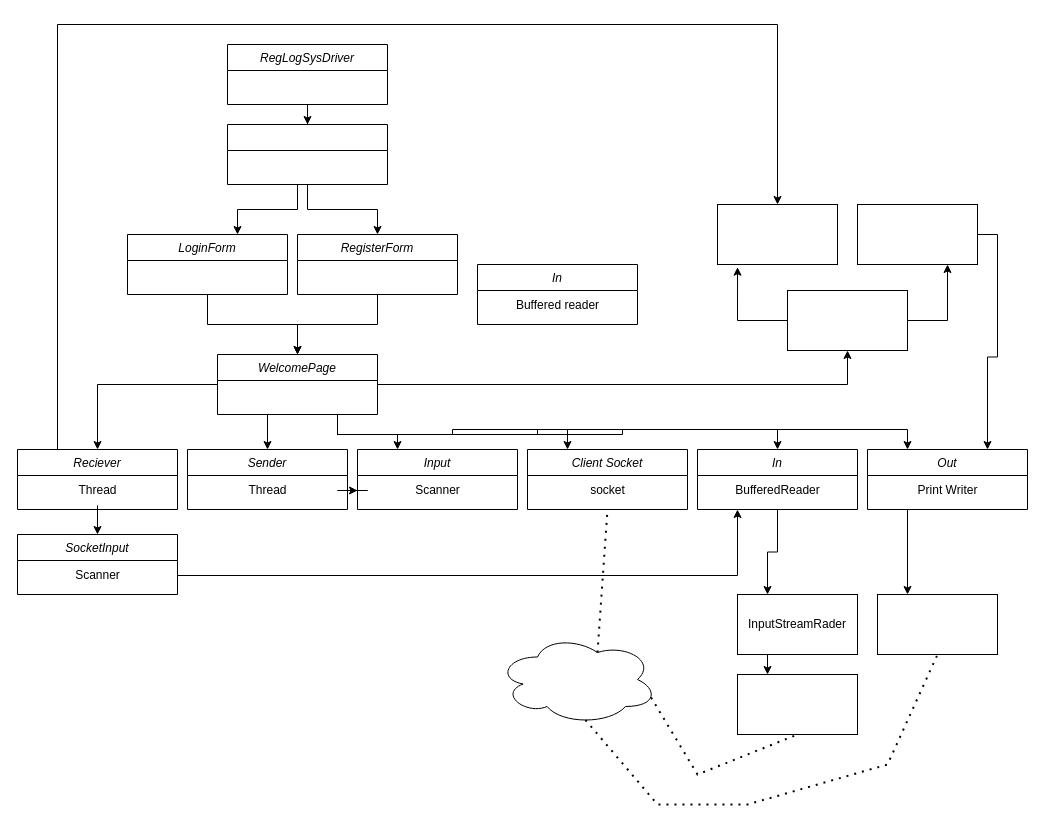
This 1045x824 diagram has some shape labels left out. Here are the shapes that lost their labels. From the top down, the centre of each, then its label:
At point 307,154: "RegLogSystem".
At point 777,234: "JTextArea".
At point 917,234: "JTetxField".
At point 847,320: "Jframe".
At point 937,624: "OutputStream".
At point 577,679: "Kommer fra Socket".
At point 797,704: "InputStream".
